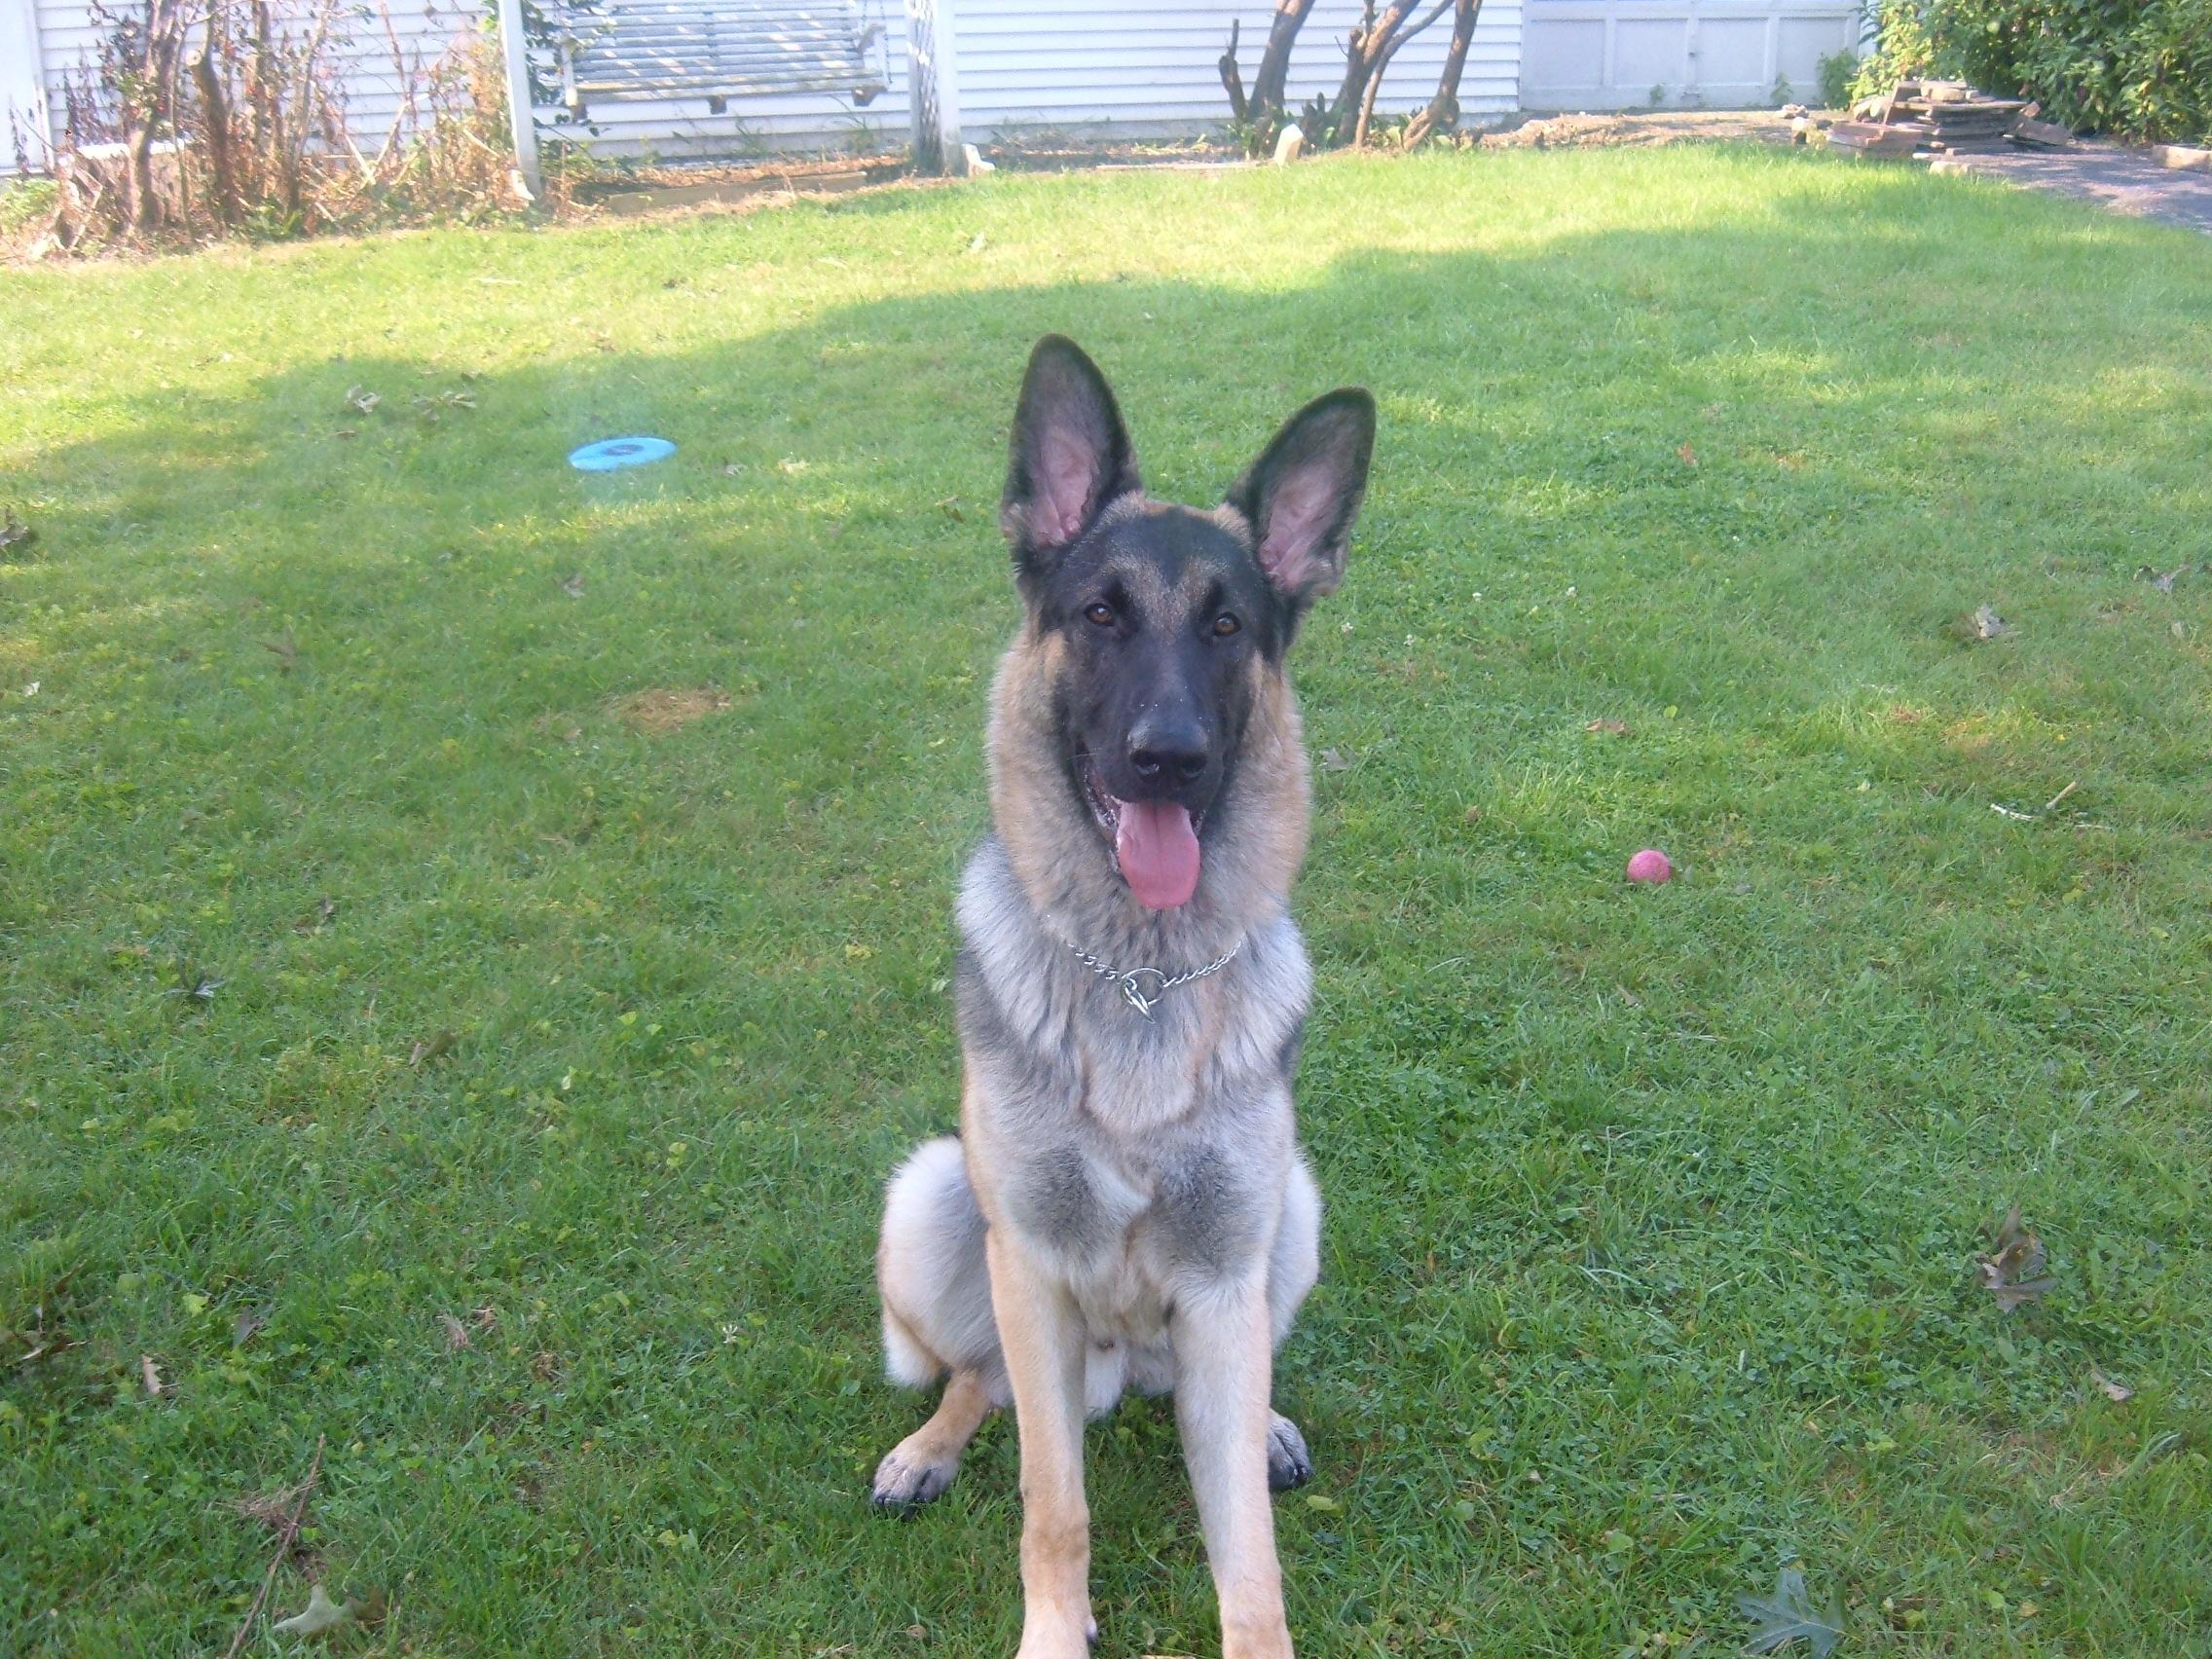German_shepherd: (866, 326, 1385, 1654)
